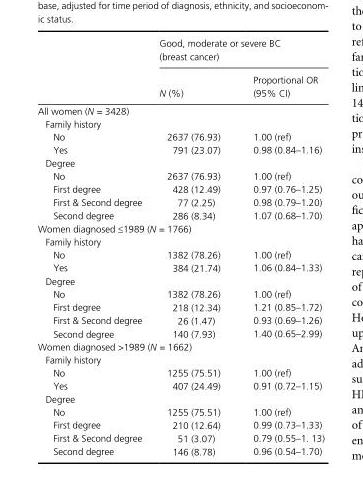table: (37, 36, 323, 456)
table column: (37, 36, 149, 456), (149, 36, 236, 456), (236, 36, 323, 456)
table column header: (37, 36, 323, 101)
table projected row header: (37, 101, 323, 117), (37, 156, 323, 169), (37, 221, 323, 234), (37, 234, 323, 247), (37, 274, 323, 287), (37, 339, 323, 352), (37, 352, 323, 365), (37, 392, 323, 405), (37, 117, 323, 129)
table row: (37, 67, 323, 101), (37, 36, 323, 67), (37, 101, 323, 117), (37, 142, 323, 156), (37, 260, 323, 274), (37, 378, 323, 392), (37, 417, 323, 431), (37, 129, 323, 142), (37, 156, 323, 169), (37, 169, 323, 182), (37, 182, 323, 195), (37, 195, 323, 208), (37, 208, 323, 221), (37, 221, 323, 234), (37, 234, 323, 247), (37, 247, 323, 260), (37, 274, 323, 287), (37, 287, 323, 300), (37, 300, 323, 313), (37, 313, 323, 326), (37, 326, 323, 339), (37, 339, 323, 352), (37, 352, 323, 365), (37, 365, 323, 378), (37, 392, 323, 405), (37, 431, 323, 444), (37, 117, 323, 129), (37, 405, 323, 417), (37, 444, 323, 456)
table spanning cell: (149, 36, 323, 67)
